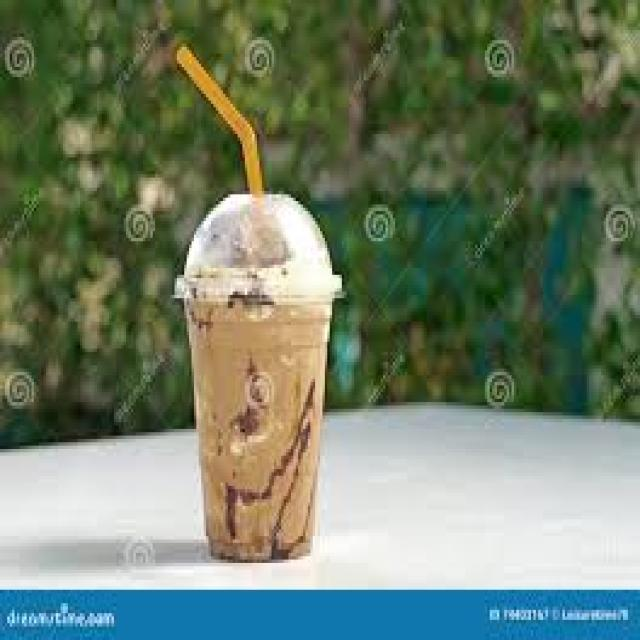bottle: (185, 301, 331, 561)
